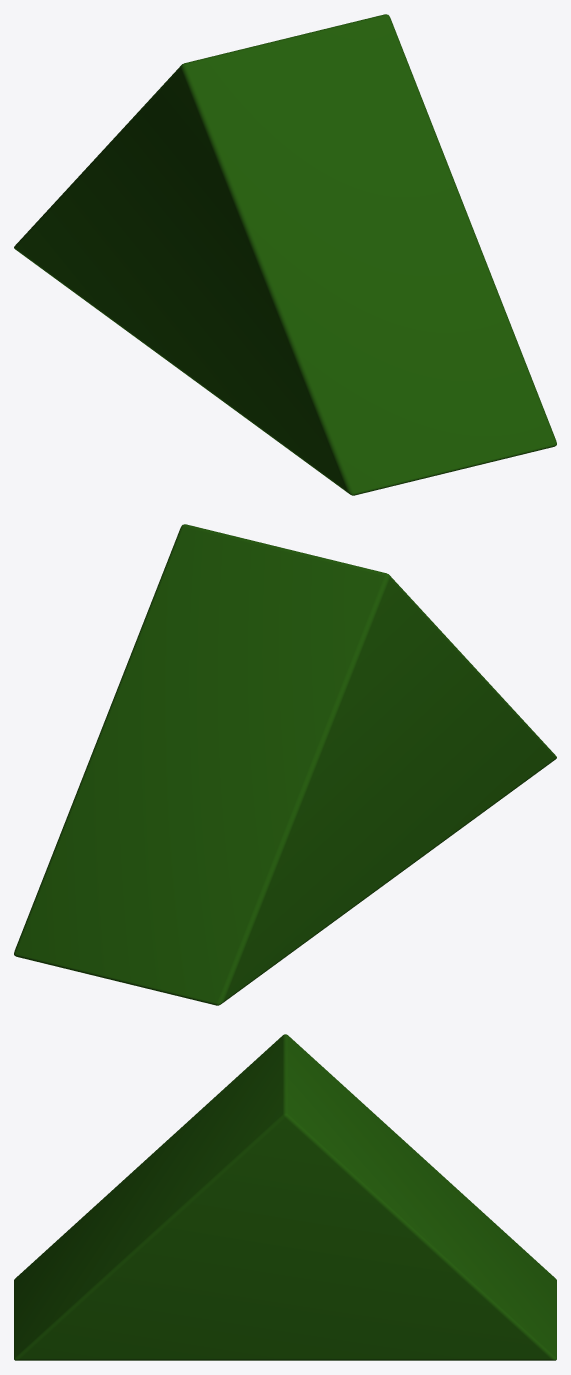
Rendered from Prisim 1.fbx.
3 views of the same model, one above another, from view 1: azimuth 30°, elevation 25°; view 2: azimuth 150°, elevation 25°; view 3: azimuth 270°, elevation 25° (orthographic). The views are drawn at different scales.
Visible parts, largest first — view 1: Dach; view 2: Dach; view 3: Dach.
Boxes of the visible parts, box(x1,y1,x2,y2) form: Dach: box(14, 14, 556, 495); Dach: box(14, 524, 556, 1005); Dach: box(14, 1034, 556, 1360).
Bounding box in the file's own units: 25 × 35.3 × 70.22.
